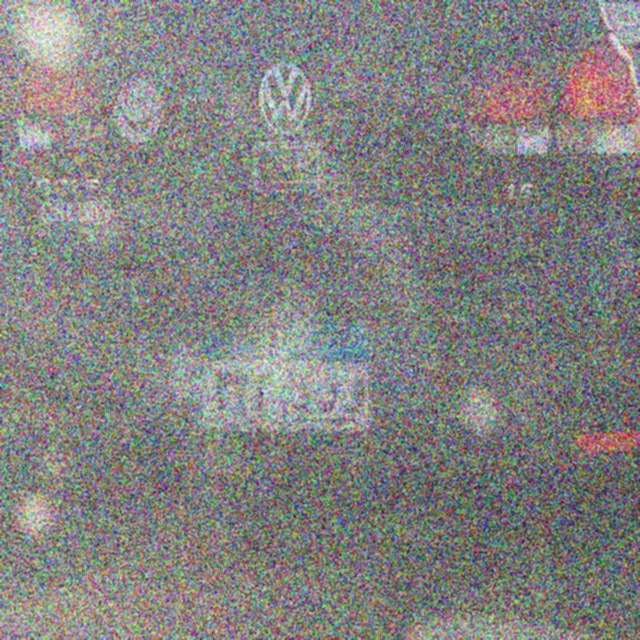License Plate: (196, 313, 376, 440)
